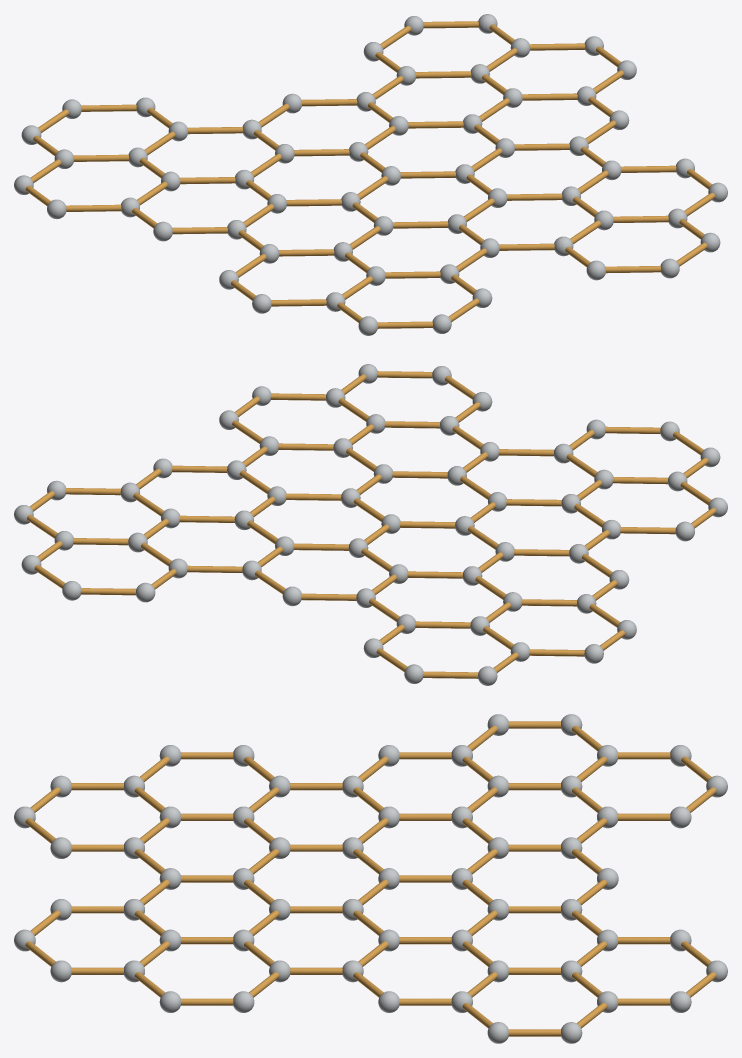
The model's file is graphene.glb.
The picture shows the model from 3 angles, top to bottom: view 1: azimuth 30°, elevation 25°; view 2: azimuth 150°, elevation 25°; view 3: azimuth 270°, elevation 25°; orthographic projection. The views are drawn at different scales.
Parts seen in each view (by area): view 1: Mesh_Mesh_head_geo.001_lambert2SG.001_0; view 2: Mesh_Mesh_head_geo.001_lambert2SG.001_0; view 3: Mesh_Mesh_head_geo.001_lambert2SG.001_0.
Part boxes in pixels (left/top/right/bottom): Mesh_Mesh_head_geo.001_lambert2SG.001_0: left=14, top=14, right=727, bottom=335; Mesh_Mesh_head_geo.001_lambert2SG.001_0: left=14, top=364, right=727, bottom=685; Mesh_Mesh_head_geo.001_lambert2SG.001_0: left=14, top=714, right=727, bottom=1043.
Size of the model in its own units: 206 by 6 by 196.
